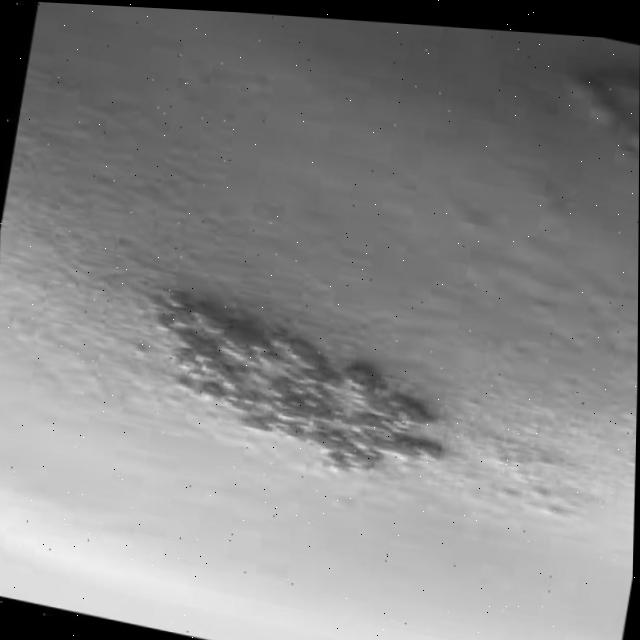Shingles: (139, 291, 434, 475), (570, 57, 640, 165)
